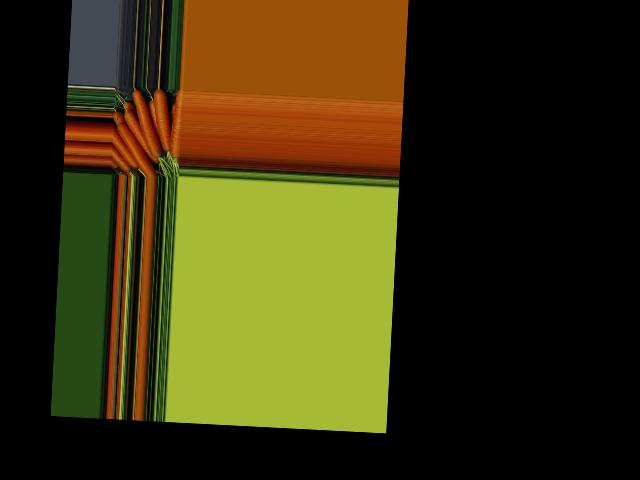carrot: (113, 121, 159, 176)
